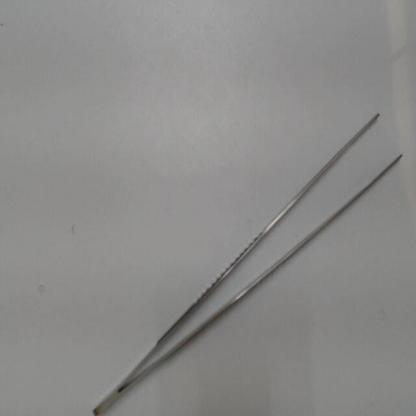DeBakey Dissector: (82, 108, 414, 414)
